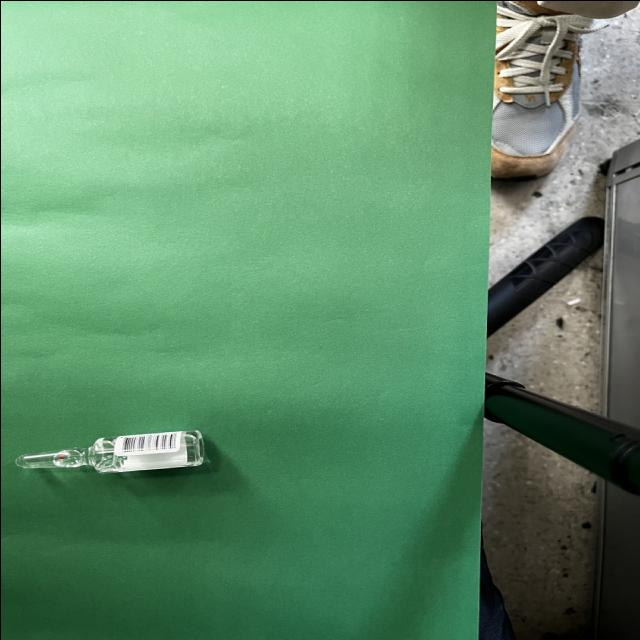Ampoules: (16, 430, 204, 472)
